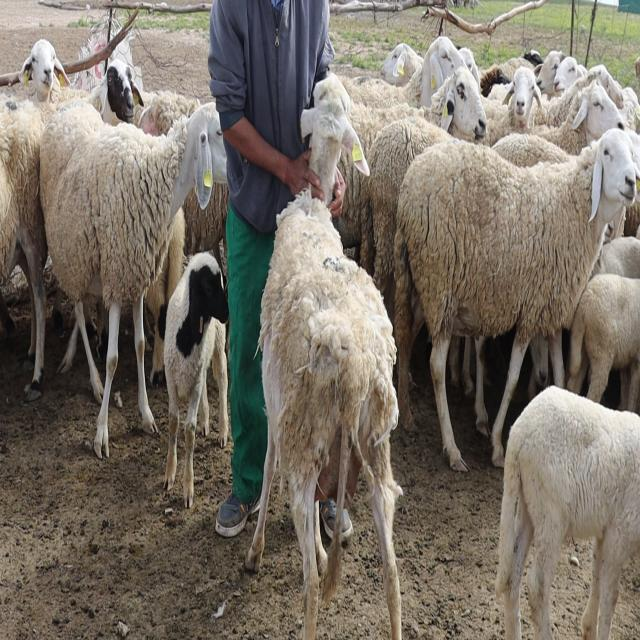Score_2: (245, 73, 403, 639)
